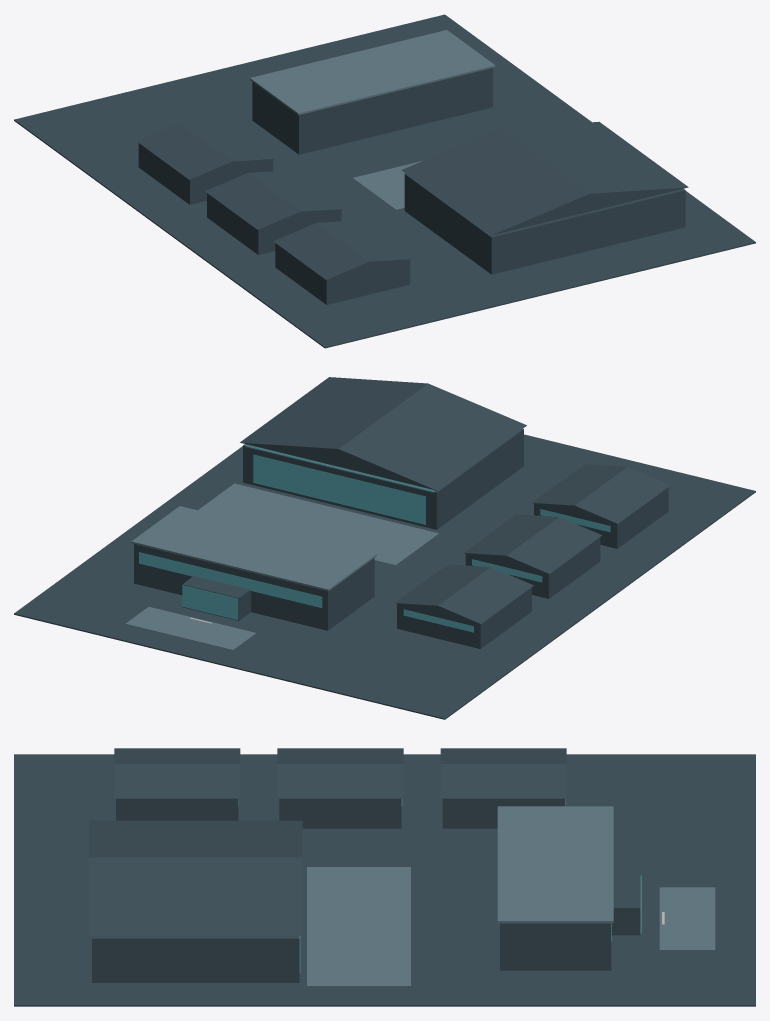
The model's file is military_base.lod2.glb.
3 views of the same model, one above another, from view 1: azimuth 30°, elevation 25°; view 2: azimuth 150°, elevation 25°; view 3: azimuth 270°, elevation 25° (orthographic). The views are drawn at different scales.
Parts seen in each view (by area): view 1: military_base_graphite.002, military_base_graphite_light.002; view 2: military_base_graphite.002, military_base_graphite_light.002, military_base_glass.002; view 3: military_base_graphite.002, military_base_graphite_light.002.
Boxes of the visible parts, bbox=[...] form: military_base_graphite.002: bbox=[14, 14, 755, 348]; military_base_graphite_light.002: bbox=[250, 30, 495, 209]; military_base_graphite.002: bbox=[14, 377, 755, 719]; military_base_graphite_light.002: bbox=[125, 483, 438, 649]; military_base_glass.002: bbox=[139, 444, 610, 632]; military_base_graphite.002: bbox=[14, 748, 755, 1006]; military_base_graphite_light.002: bbox=[307, 806, 715, 986].
Size of the model in its own units: 160 by 21.1 by 200.
